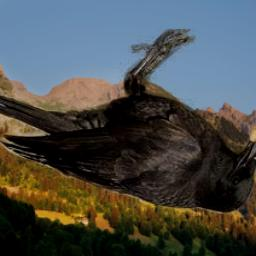Crow: (0, 29, 256, 216)
